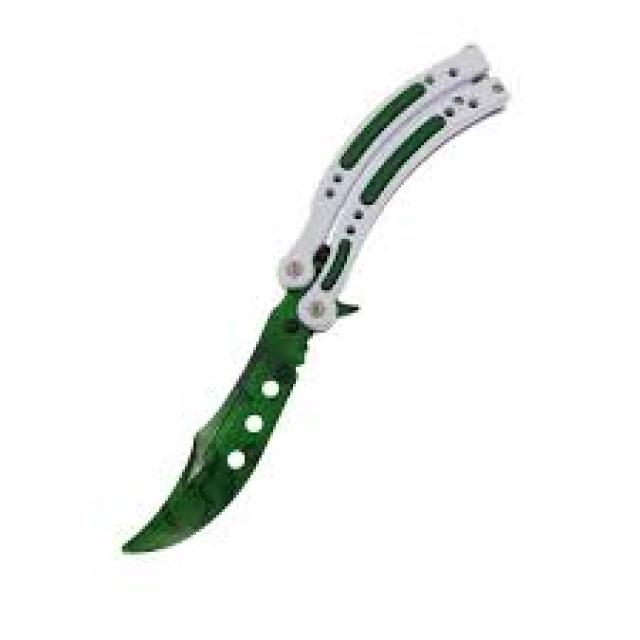knife: (111, 40, 533, 575)
